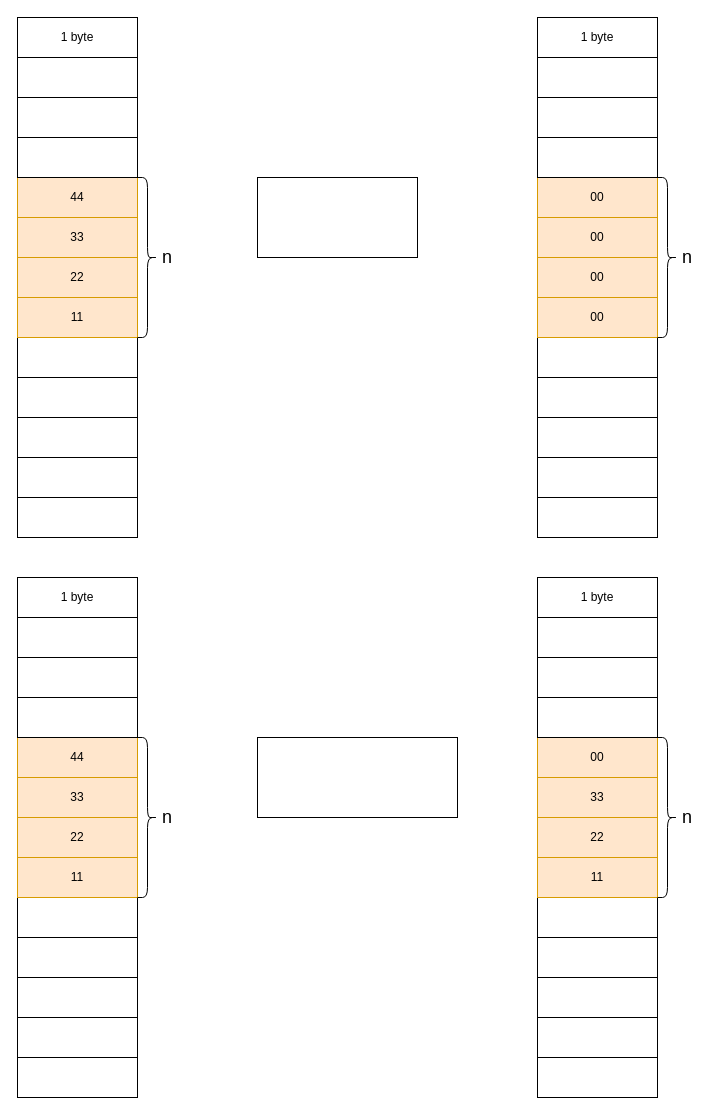
Some shapes in this 725 by 1115 pixel diagram are drawn without their labels. The centre of each missing label's shape, as x and y in pixels:
"char *p2 = (char *)&n; *p2 = 0;" belongs at point 357,777.
"int *p1 = &n; *p1 = 0;" belongs at point 337,217.
